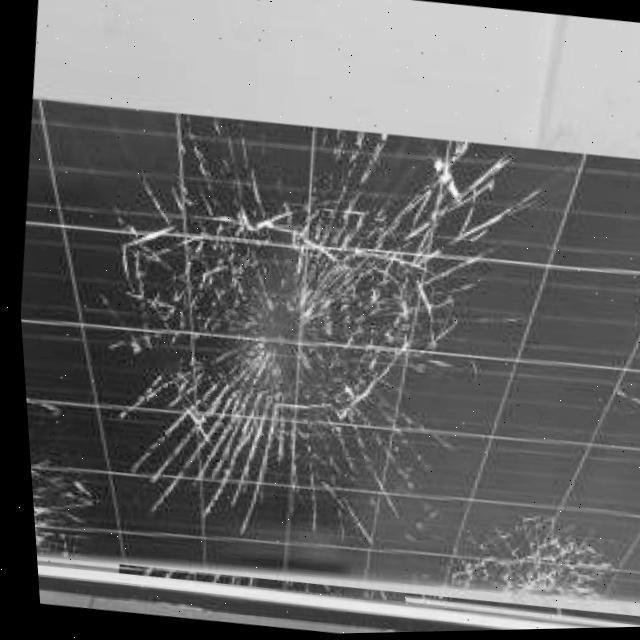Anomaly Solar Panel: (16, 100, 640, 620)
Structural Damage: (92, 114, 544, 563), (438, 511, 606, 597), (22, 424, 93, 560)
